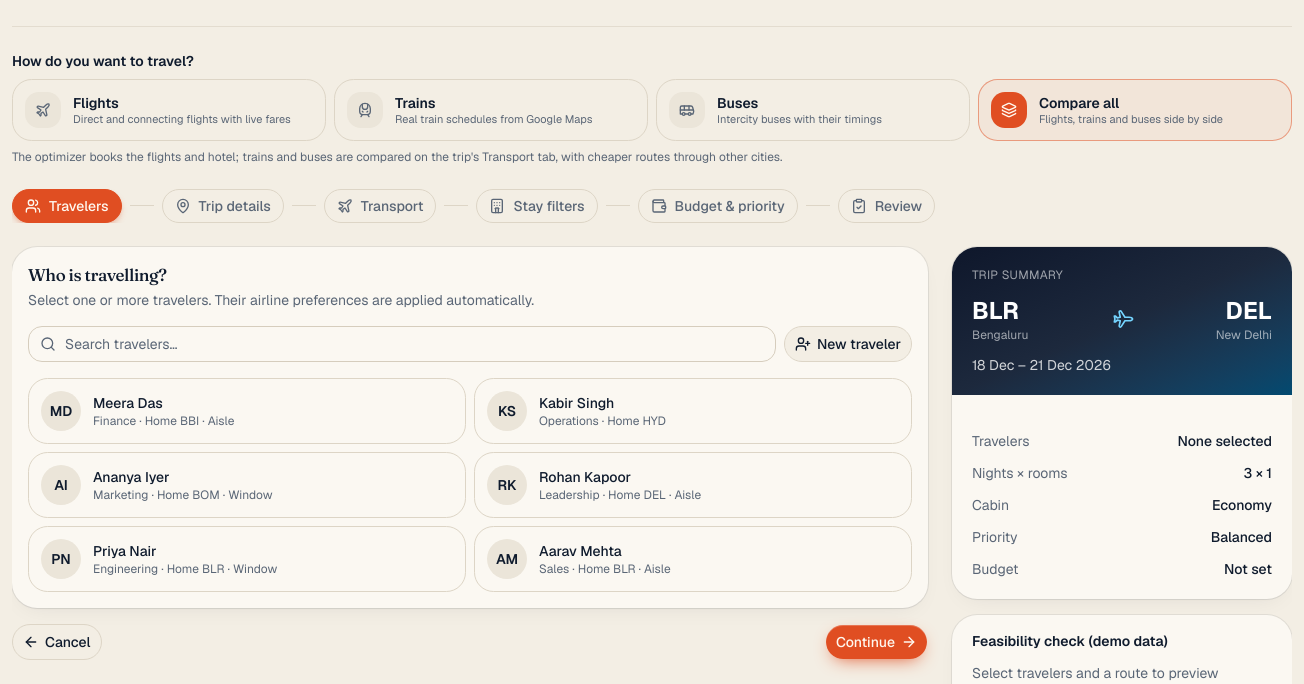
Test: trip request form › needs a traveler before the trip details
(page scrolled)
Click the button "Continue" at (876, 642), box x1=825 y1=624 x2=928 y2=660
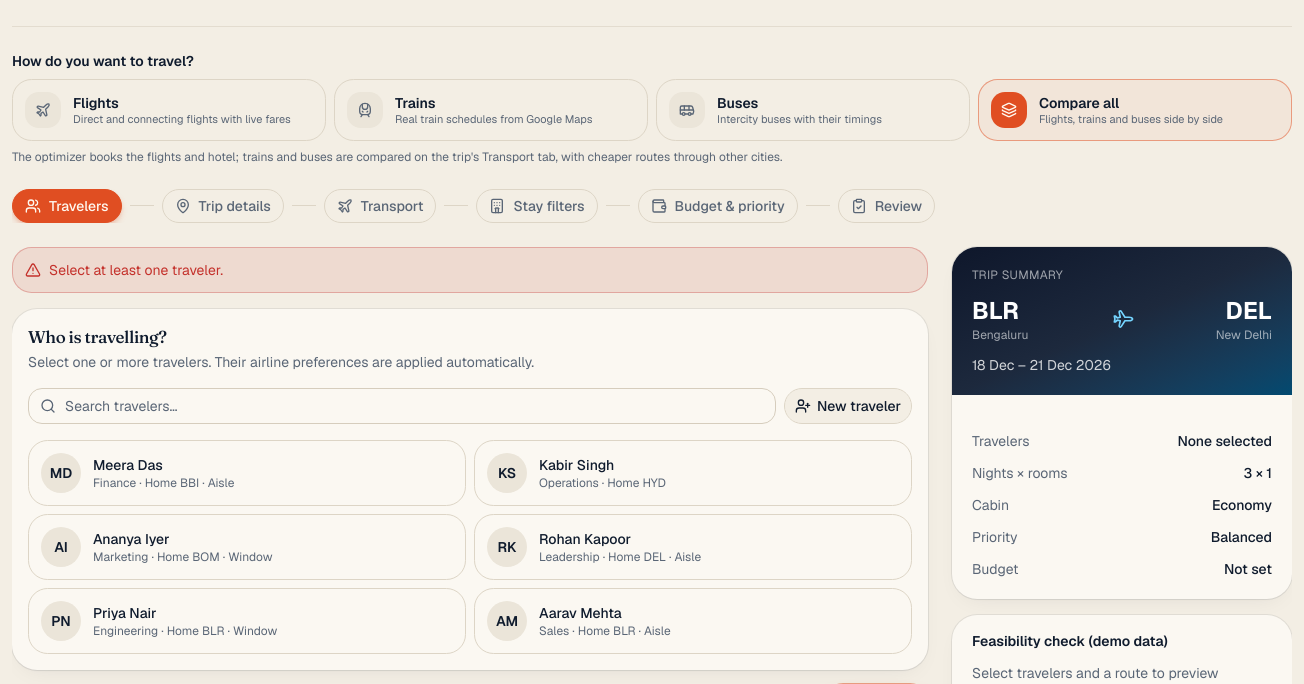
Check: the message reads "Select at least one traveler.", box x1=49 y1=260 x2=223 y2=278
